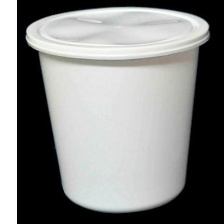plastic_box: (20, 1, 215, 218)
